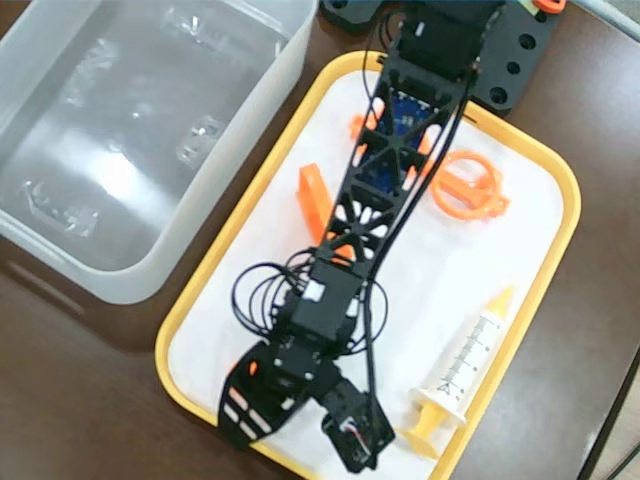syringe: (398, 280, 519, 459)
